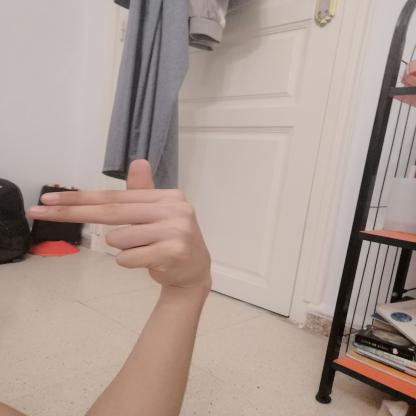GHAYN: (15, 151, 220, 292)
